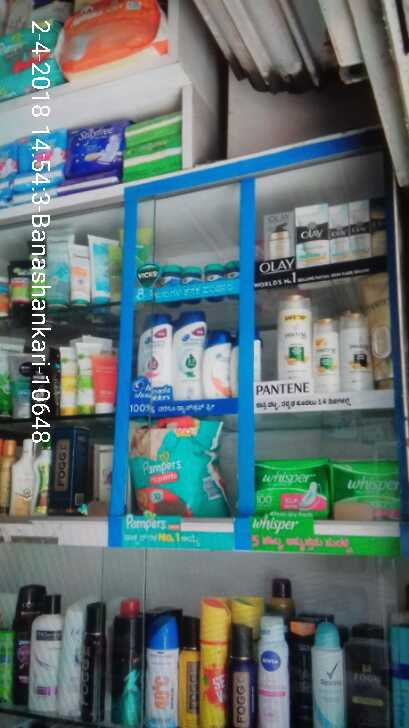vicks: (158, 261, 247, 282)
